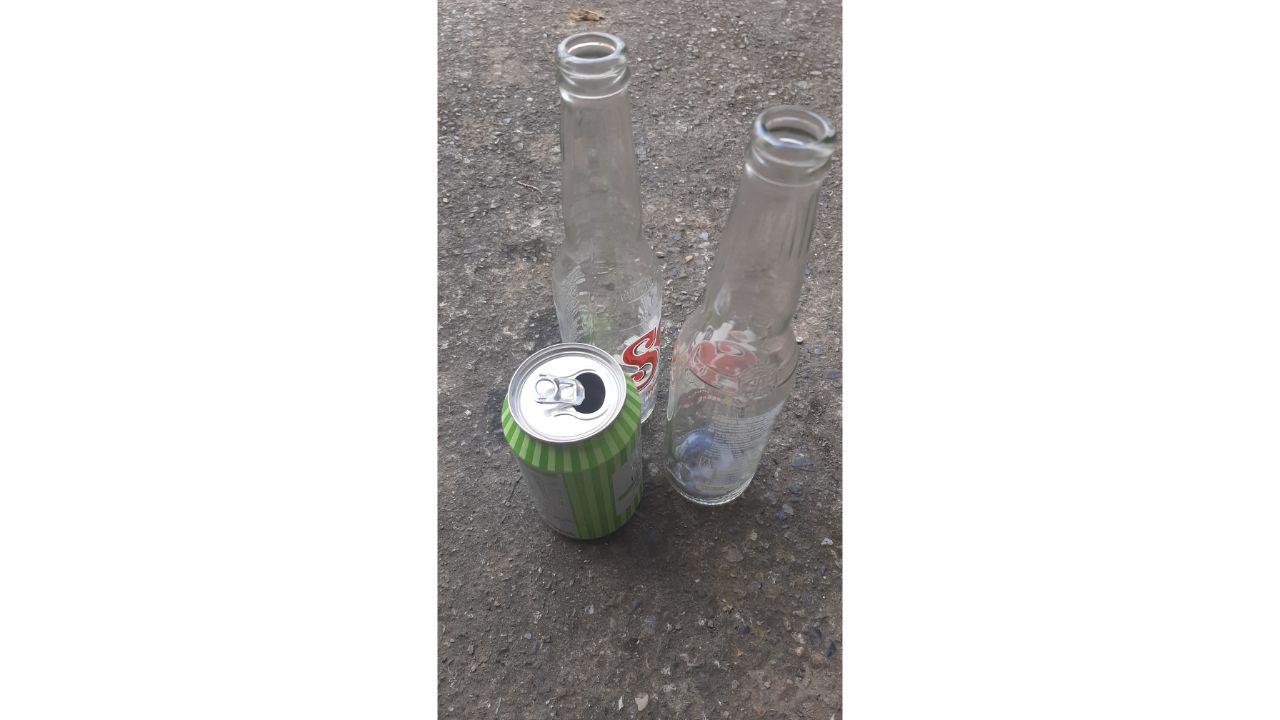Can: (489, 330, 652, 553)
